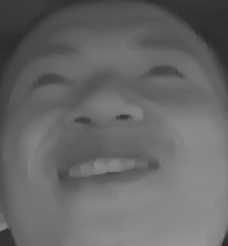eye: (133, 57, 191, 87), (29, 65, 73, 93)
mouth: (46, 134, 165, 200)
